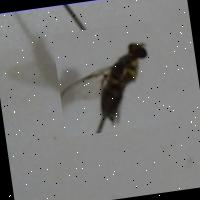Oriental-fruit-fly: (50, 20, 166, 137)
